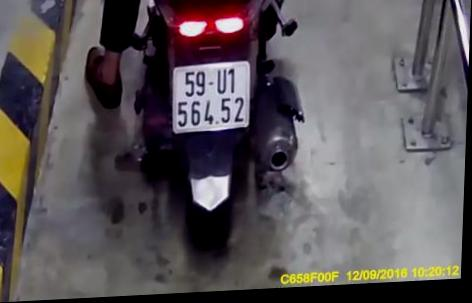License_Plate: (162, 59, 261, 137)
